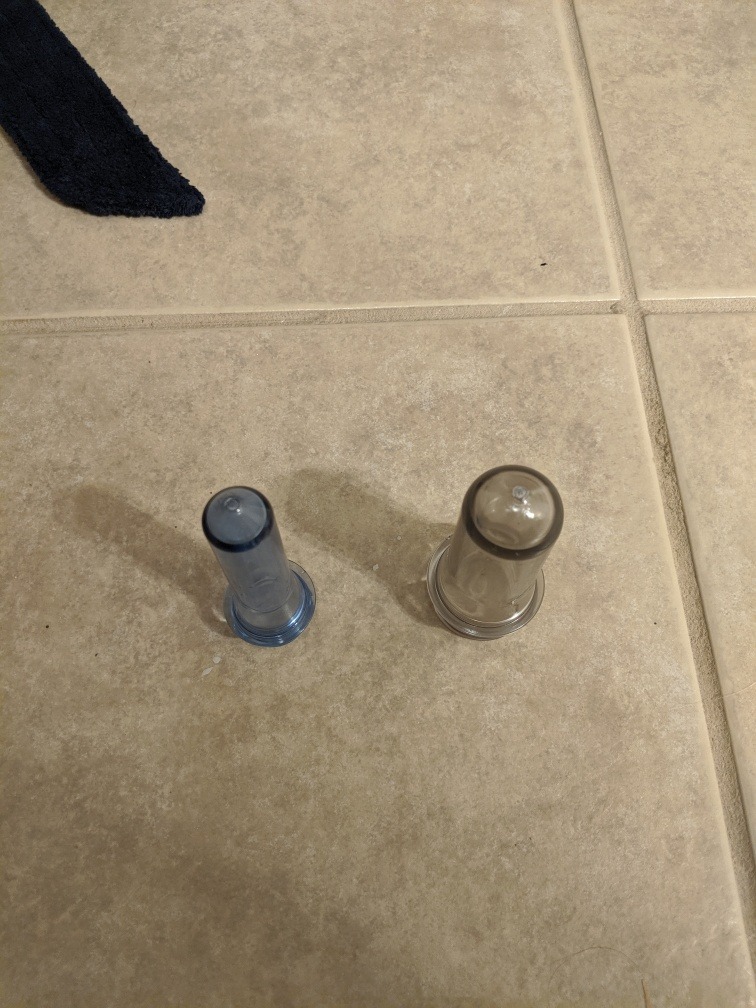preform: (417, 452, 570, 650), (192, 478, 329, 657)
